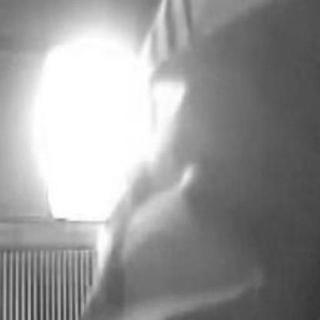other: (31, 45, 160, 223)
